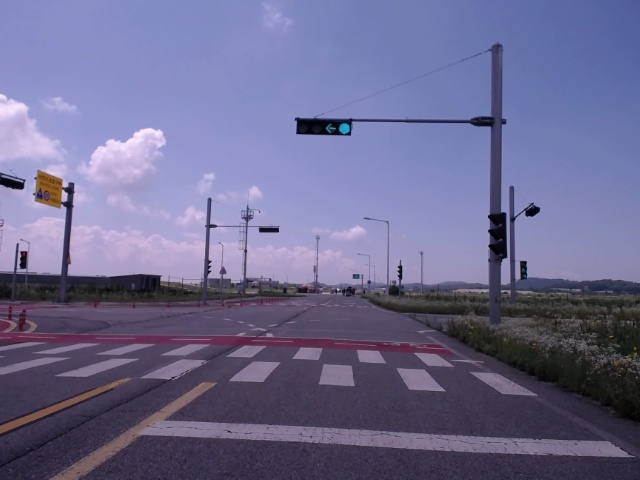all_green_4: (297, 116, 357, 137)
